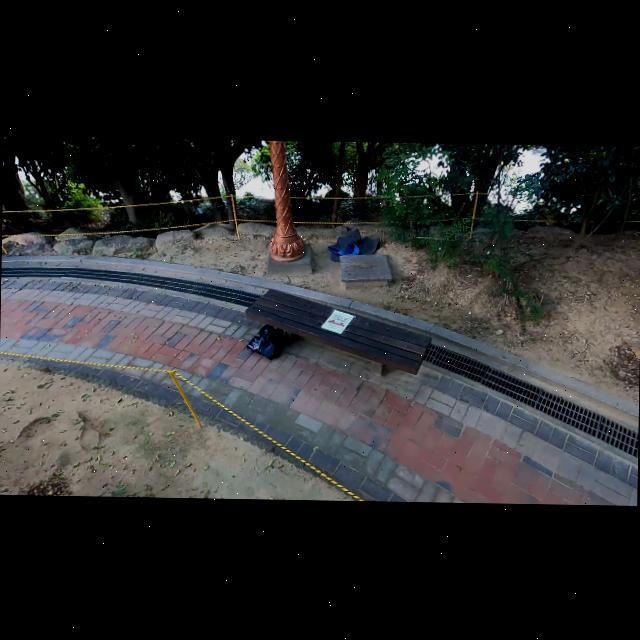trash: (326, 225, 384, 262), (244, 323, 288, 359)
